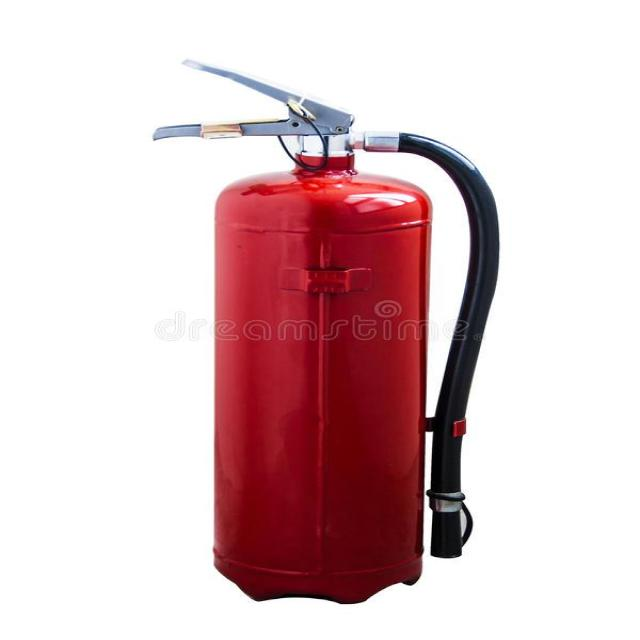fire_extinguisher: (143, 53, 508, 608)
